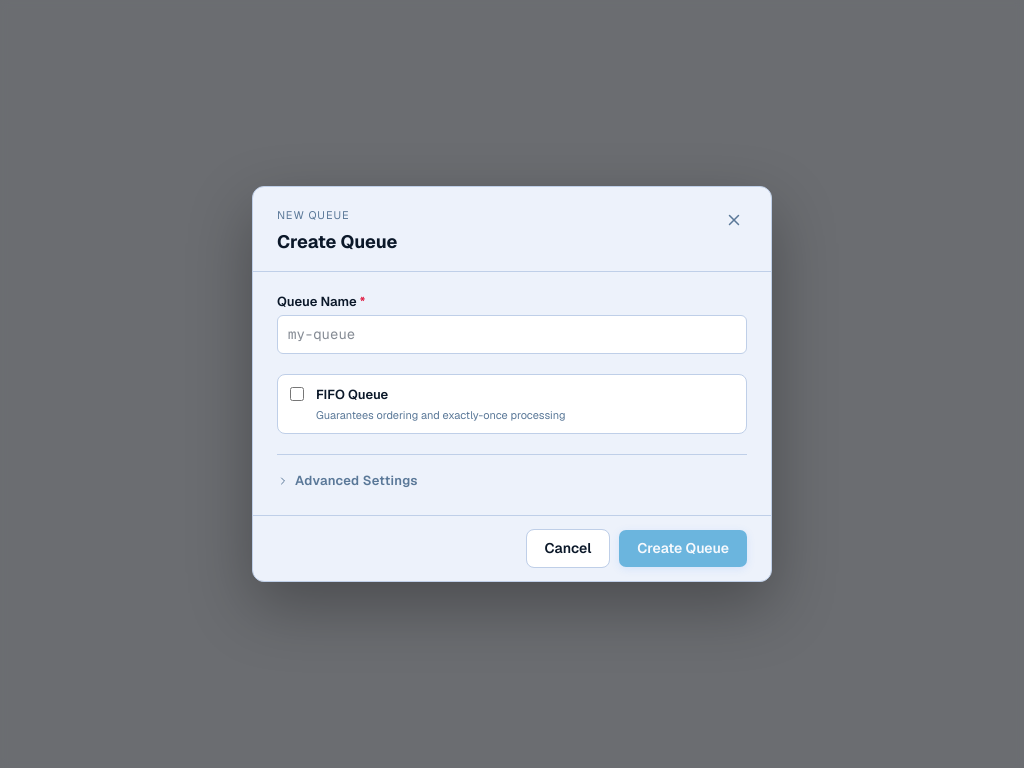
Scenario: CreateQueueModal › shows the content-based deduplication toggle when FIFO is enabled
This screenshot has width=1024, height=768.
Click the checkbox labelled "FIFO Queue Guarantees ordering and exactly-once processing".
click(297, 394)  # box [290,387,304,401]
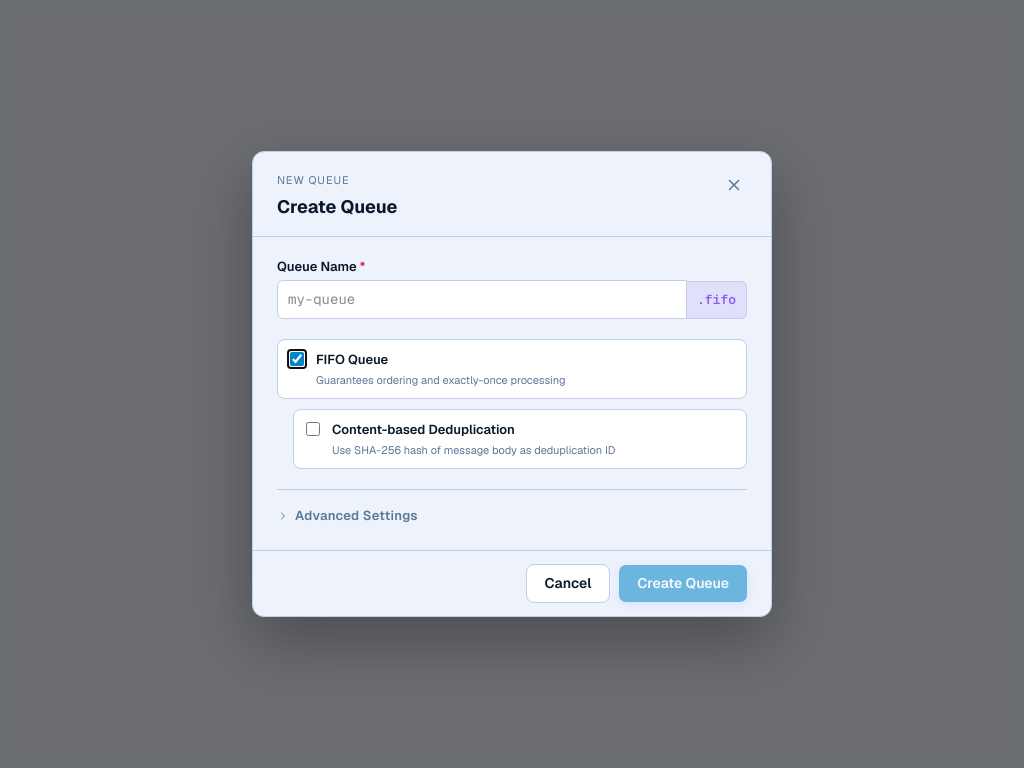
Now the checkbox labelled "Content-based Deduplication" is shown, box [306,422,320,436]
